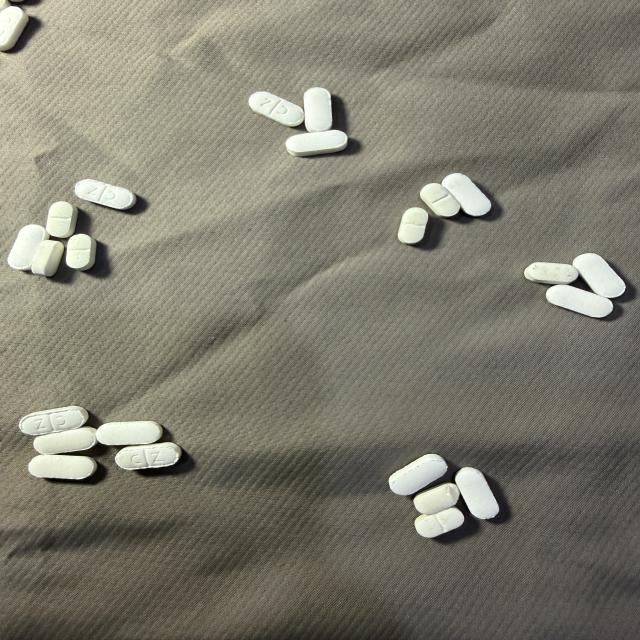pill: (389, 454, 447, 495), (573, 253, 625, 297), (455, 468, 499, 519), (546, 285, 613, 317), (442, 174, 491, 216), (19, 406, 88, 435), (249, 92, 304, 126), (8, 225, 49, 270), (75, 179, 136, 209), (115, 443, 181, 469), (34, 427, 96, 454), (29, 455, 97, 479), (286, 130, 347, 156), (97, 421, 162, 445), (413, 482, 460, 515), (415, 507, 463, 537), (420, 184, 460, 217), (304, 87, 332, 132), (0, 7, 28, 51), (524, 262, 578, 284), (32, 240, 64, 276), (46, 202, 77, 238), (66, 234, 96, 270), (398, 208, 428, 244), (0, 0, 11, 11)
